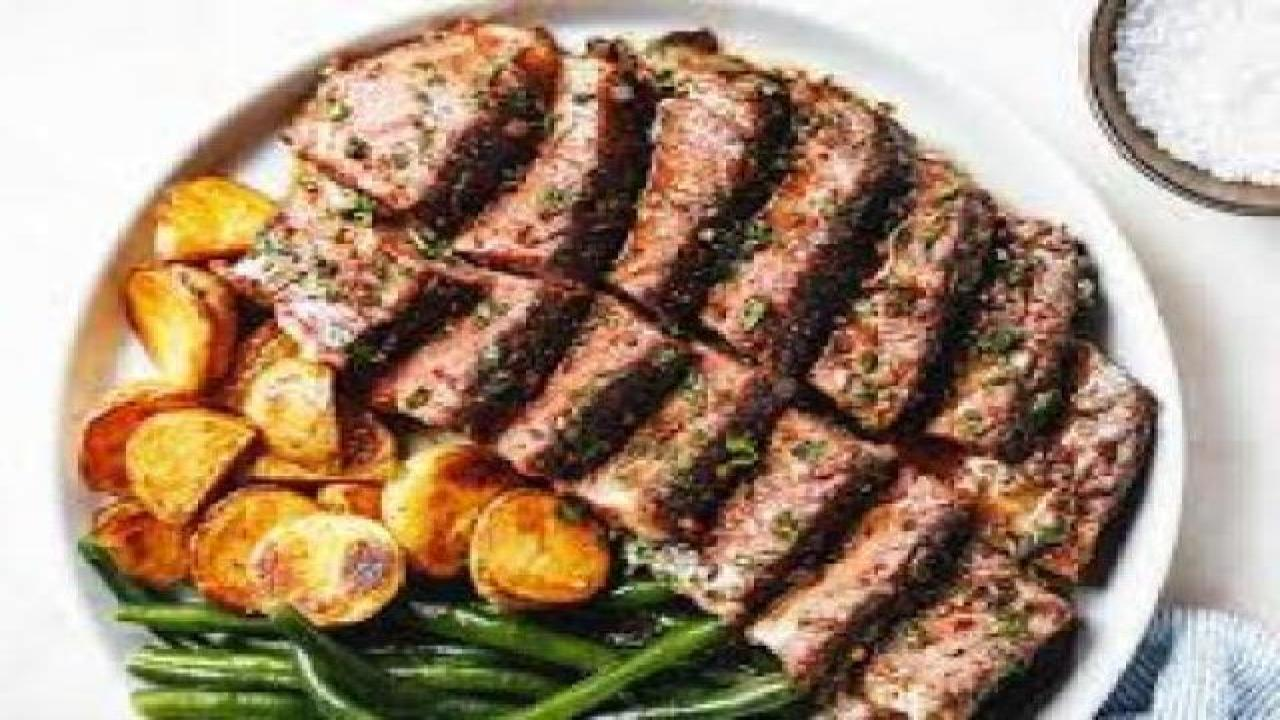Carne: (251, 0, 1077, 719)
